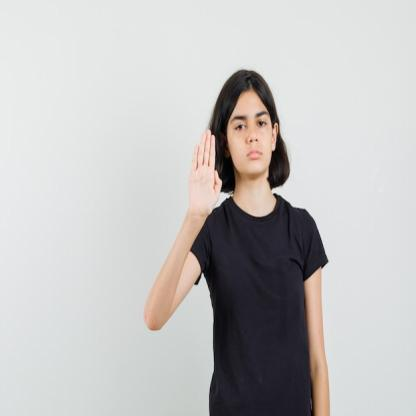stop: (188, 127, 224, 224)
